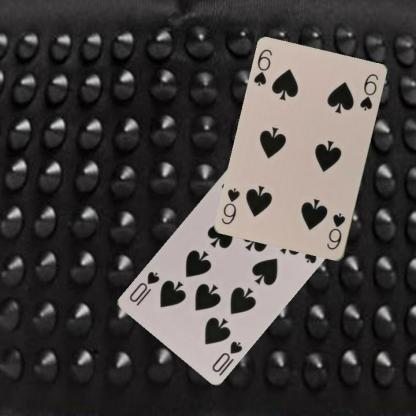10s: (209, 338, 244, 373)
6s: (324, 210, 347, 252), (251, 47, 274, 88)
